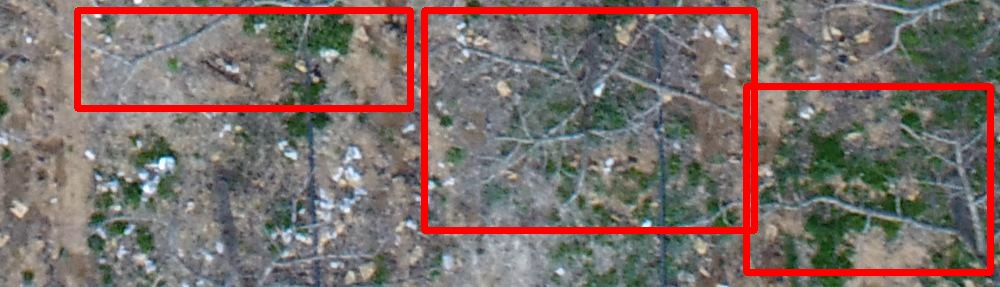apple: (424, 10, 754, 230), (746, 86, 990, 272), (77, 10, 410, 108)
